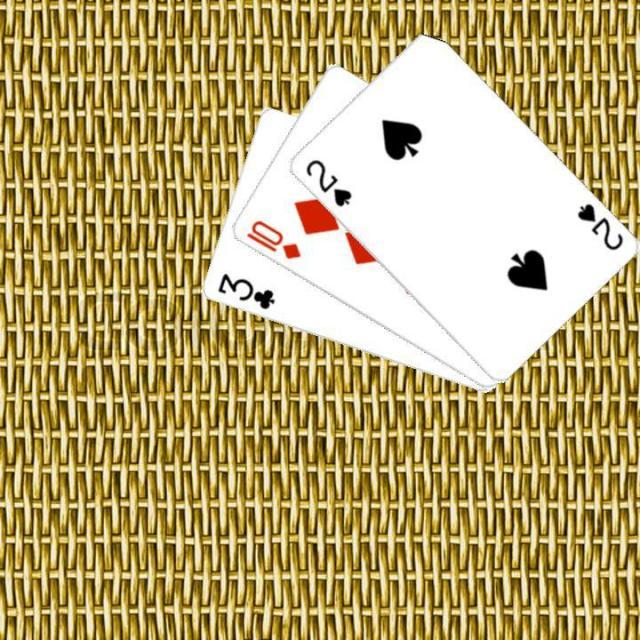10D: (242, 216, 302, 261)
2S: (300, 155, 354, 209), (572, 199, 625, 253)
3C: (212, 269, 276, 312)
